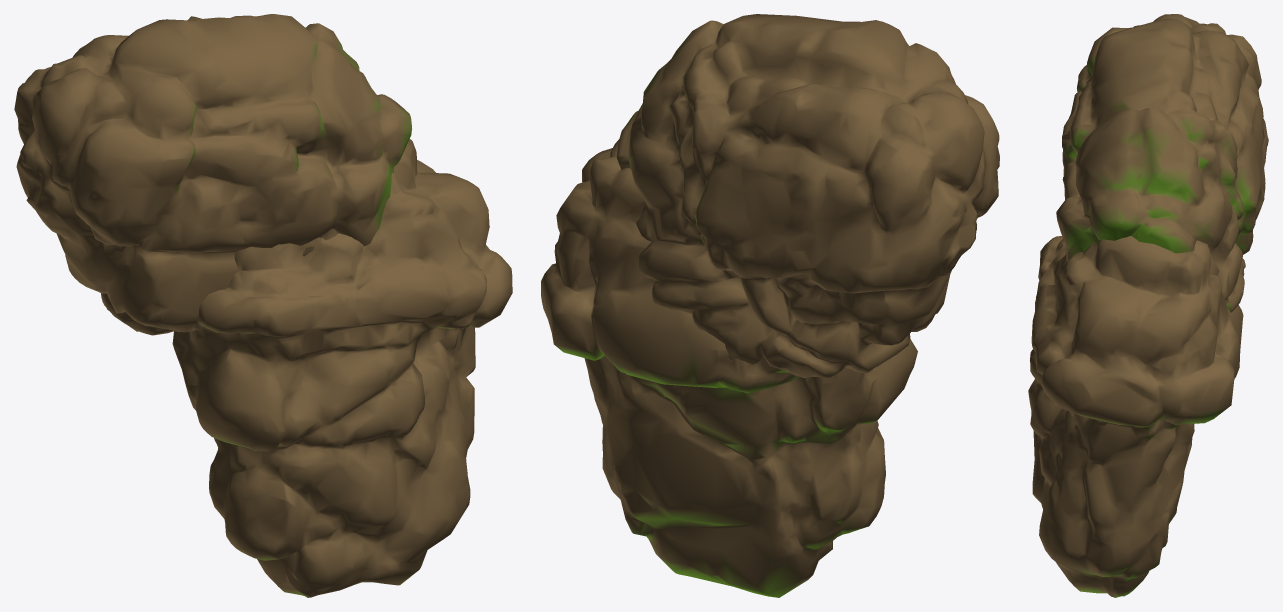
Rendered from cell_x-1_z3_render.gltf.
3 renders of one model, left to right at view 1: azimuth 30°, elevation 25°; view 2: azimuth 150°, elevation 25°; view 3: azimuth 270°, elevation 25°, orthographic. The views are drawn at different scales.
Parts seen in each view (by area): view 1: SM_ENV_cliff_castle_02_LOD0.011, SM_ENV_cliff_castle_01_LOD0.005; view 2: SM_ENV_cliff_castle_01_LOD0.005, SM_ENV_cliff_castle_02_LOD0.011; view 3: SM_ENV_cliff_castle_02_LOD0.011, SM_ENV_cliff_castle_01_LOD0.005.
Boxes of the visible parts, x1,y1,x2,y2 form: SM_ENV_cliff_castle_02_LOD0.011: [172, 139, 512, 597]; SM_ENV_cliff_castle_01_LOD0.005: [14, 14, 411, 335]; SM_ENV_cliff_castle_01_LOD0.005: [616, 14, 999, 378]; SM_ENV_cliff_castle_02_LOD0.011: [541, 139, 917, 597]; SM_ENV_cliff_castle_02_LOD0.011: [1028, 236, 1243, 597]; SM_ENV_cliff_castle_01_LOD0.005: [1056, 14, 1268, 312].
Size of the model in its own units: 95.08 by 126 by 55.3.
